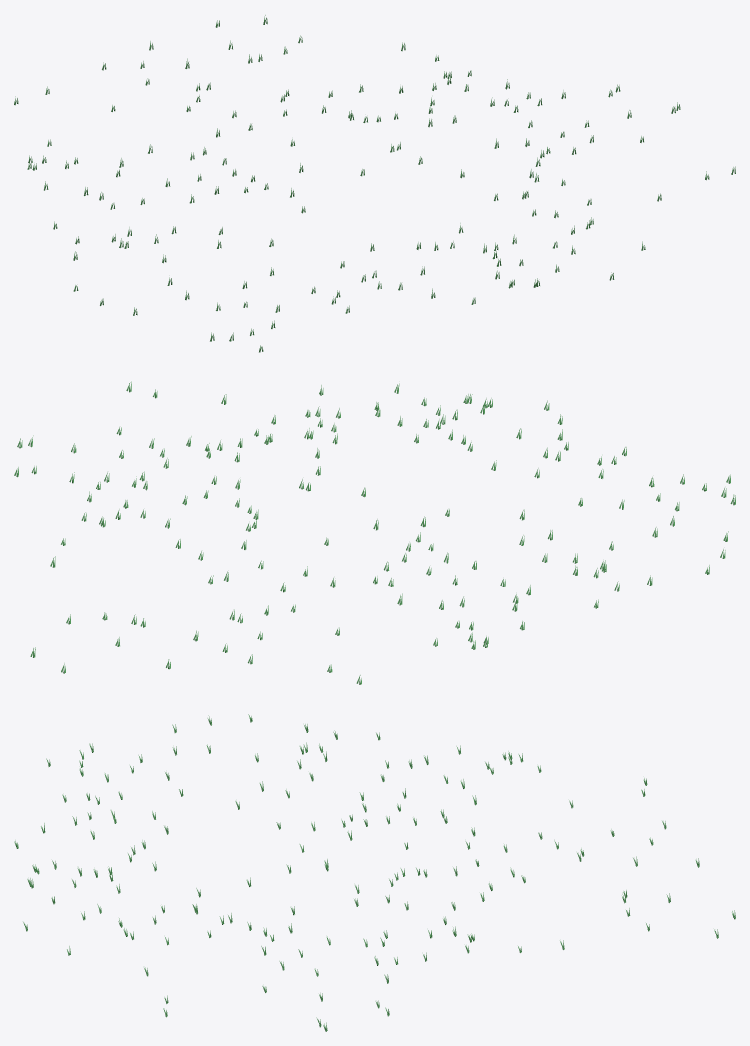
File: grass-patches.glb
3 renders of one model, top to bottom at view 1: azimuth 30°, elevation 25°; view 2: azimuth 150°, elevation 25°; view 3: azimuth 270°, elevation 25°, orthographic. The views are drawn at different scales.
Parts seen in each view (by area): view 1: GrassPatches_meadowSunny; view 2: GrassPatches_meadowSunny; view 3: GrassPatches_meadowSunny.
Boxes of the visible parts, x1,y1,x2,y2 form: GrassPatches_meadowSunny: [14, 15, 735, 352]; GrassPatches_meadowSunny: [14, 381, 735, 684]; GrassPatches_meadowSunny: [14, 714, 735, 1031].
Size of the model in its own units: 16.36 by 1.13 by 16.19.
